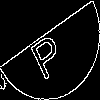P: (25, 25, 67, 82)
